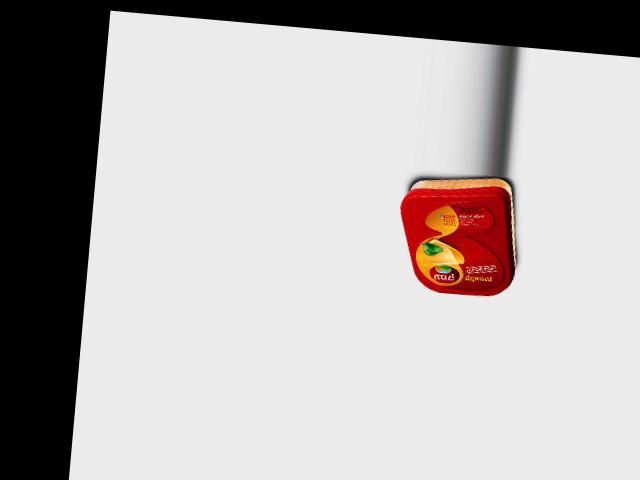cheese: (393, 170, 523, 299)
